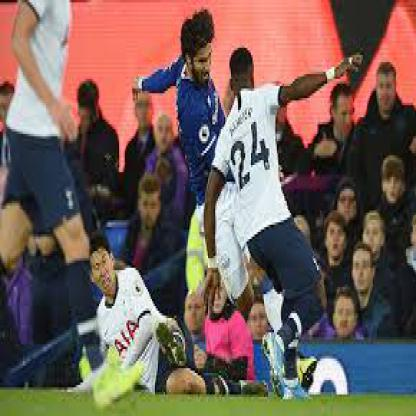Fall_Down: (57, 225, 272, 405)
